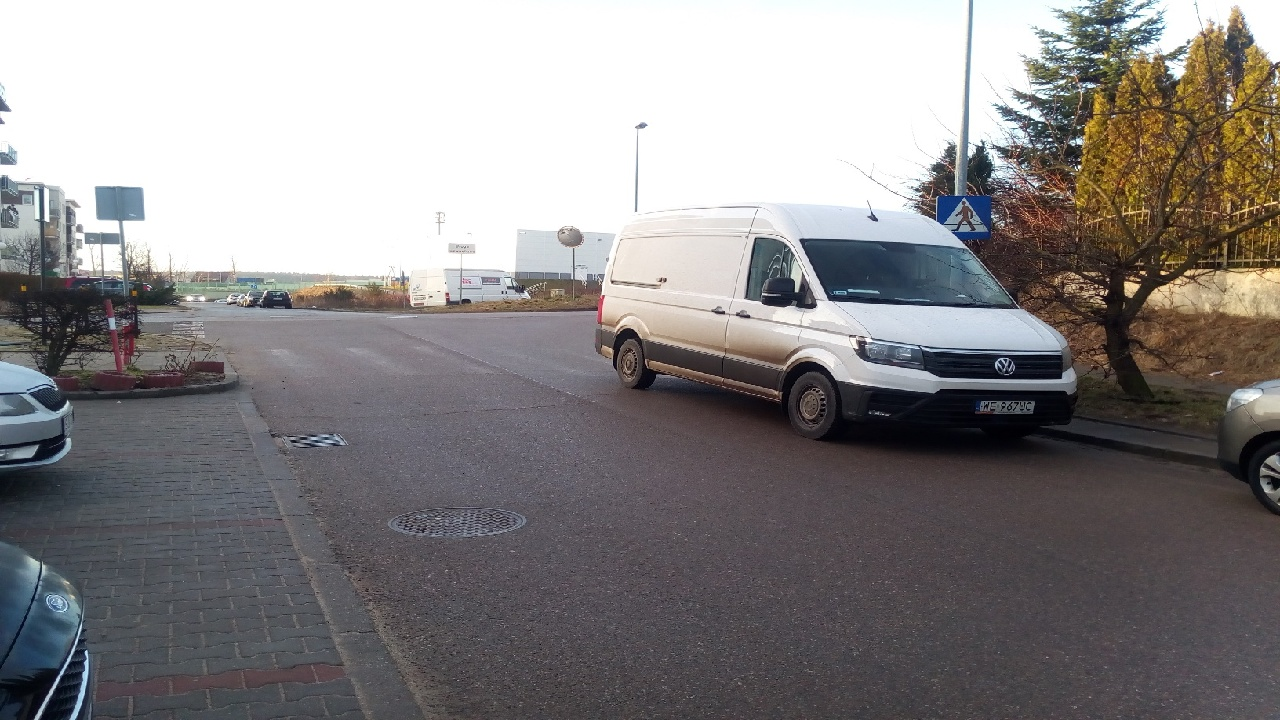D6: (929, 191, 1001, 245)
